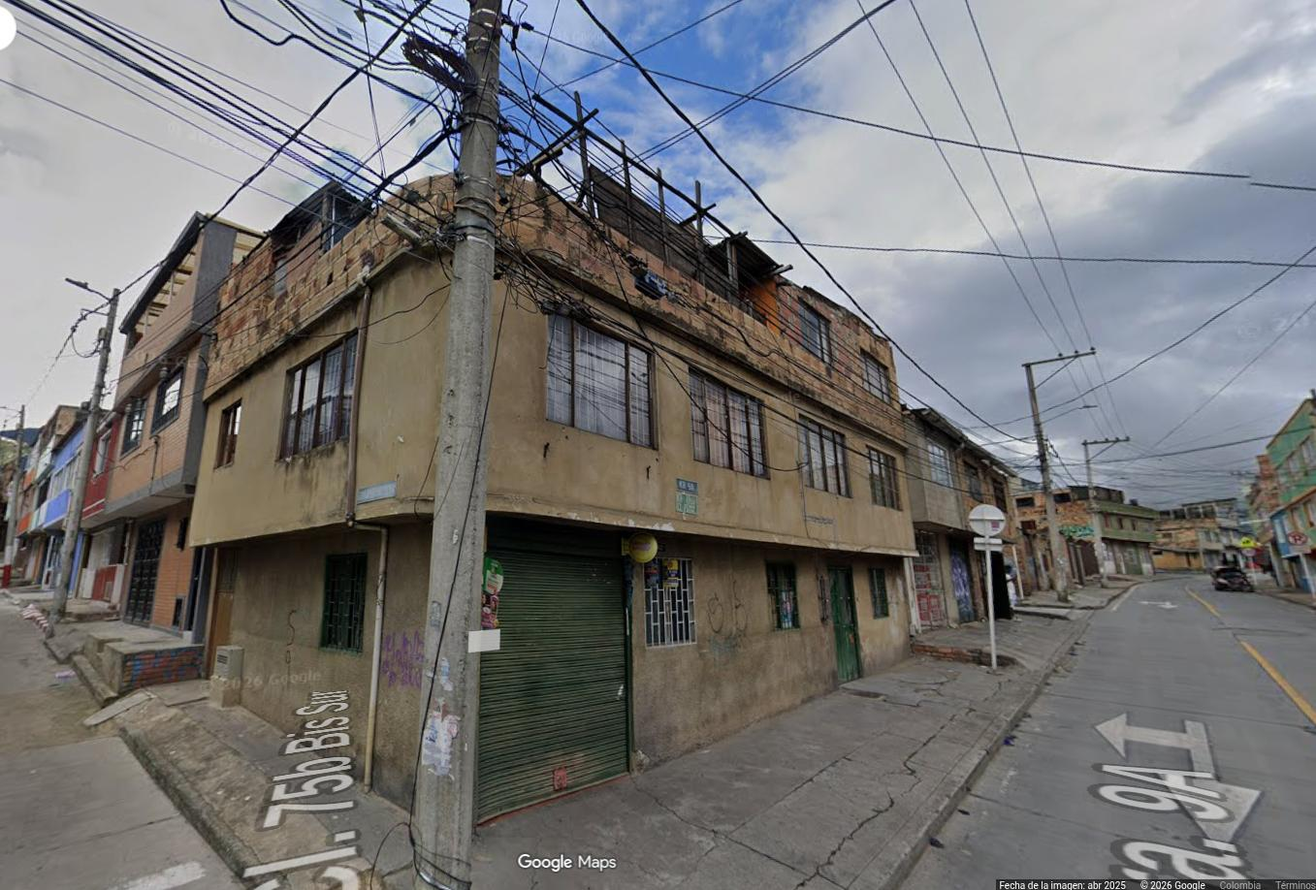casa: (189, 166, 924, 821), (90, 215, 254, 624), (902, 406, 1011, 628)
poste: (413, 0, 502, 889), (1023, 350, 1095, 603), (1081, 438, 1129, 501), (1094, 516, 1105, 587)
